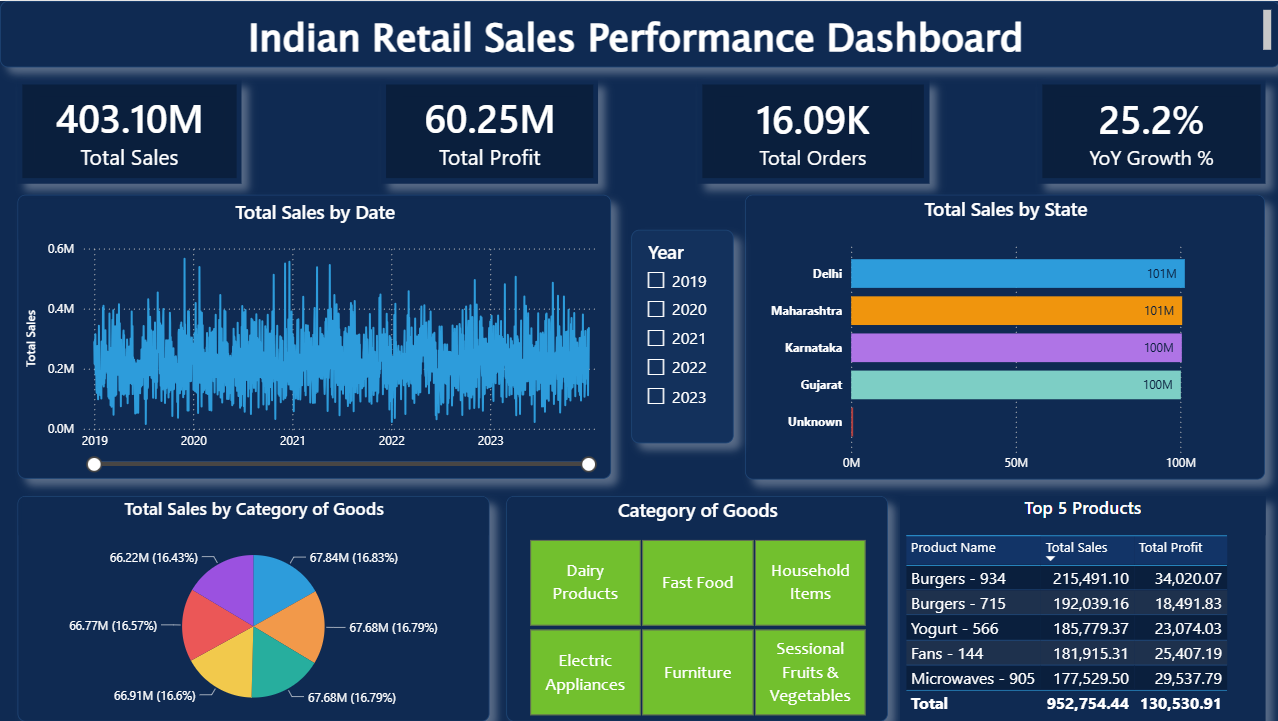

The dashboard page shown, as its layout file describes it:
{"tool":"powerbi","page":{"name":"Page 1","canvas":[1280,720],"ordinal":0},"visuals":[{"type":"cardVisual","title":"Total Sales","fields":{"Data":["indian_retail_sales_raw.Total Sales"]},"box":[18.1,78.4,224.4,103.8],"z":0},{"type":"cardVisual","fields":{"Data":["indian_retail_sales_raw.Total Profit"]},"box":[381.2,78.4,217.2,103.8],"z":1000},{"type":"cardVisual","fields":{"Data":["indian_retail_sales_raw.YoY Growth %"]},"box":[1037.5,78.4,228,103.8],"z":2000},{"type":"cardVisual","fields":{"Data":["indian_retail_sales_raw.Total Orders"]},"box":[697.3,78.4,231.6,103.8],"z":3000},{"type":"lineChart","fields":{"Category":["Dim_Date.Date"],"Y":["indian_retail_sales_raw.Total Sales"]},"box":[18.1,194.2,593.6,284],"z":4000},{"type":"clusteredBarChart","fields":{"Category":["Dim_Location.State"],"Y":["indian_retail_sales_raw.Total Sales"]},"box":[745.6,194.2,520,284.7],"z":5000},{"type":"pieChart","fields":{"Category":["Dim_Product.Category of Goods"],"Y":["indian_retail_sales_raw.Total Sales"]},"box":[18.1,494.6,471.7,225.6],"z":6000},{"type":"slicer","fields":{"Values":["Dim_Date.Year"]},"box":[631,229.2,102.5,213.5],"z":7000},{"type":"slicer","title":"Category of Goods","fields":{"Values":["Dim_Product.Category of Goods"]},"box":[506.7,494.6,381.2,225.6],"z":8000},{"type":"textbox","box":[0,0,1280,66.4],"z":9000},{"type":"tableEx","title":"Top 5 Products","fields":{"Values":["Dim_Product.Product Name","indian_retail_sales_raw.Total Sales","indian_retail_sales_raw.Total Profit"]},"box":[900,494.6,365.6,225.6],"z":10000}]}

Visuals, with their boxes in screenshot pixels (x1, y1, x2, y2), scaled from the page's 1280x720 canvas onto the 1278x721 screenshot:
"Total Sales" cardVisual: select_region(18, 79, 242, 182)
cardVisual - indian_retail_sales_raw.Total Profit: select_region(381, 79, 597, 182)
cardVisual - indian_retail_sales_raw.YoY Growth %: select_region(1036, 79, 1264, 182)
cardVisual - indian_retail_sales_raw.Total Orders: select_region(696, 79, 927, 182)
lineChart - Dim_Date.Date x indian_retail_sales_raw.Total Sales: select_region(18, 194, 611, 479)
clusteredBarChart - Dim_Location.State x indian_retail_sales_raw.Total Sales: select_region(744, 194, 1264, 480)
pieChart - Dim_Product.Category of Goods x indian_retail_sales_raw.Total Sales: select_region(18, 495, 489, 720)
slicer - Dim_Date.Year: select_region(630, 230, 732, 443)
"Category of Goods" slicer: select_region(506, 495, 887, 720)
textbox: select_region(0, 0, 1277, 66)
"Top 5 Products" tableEx: select_region(899, 495, 1264, 720)
